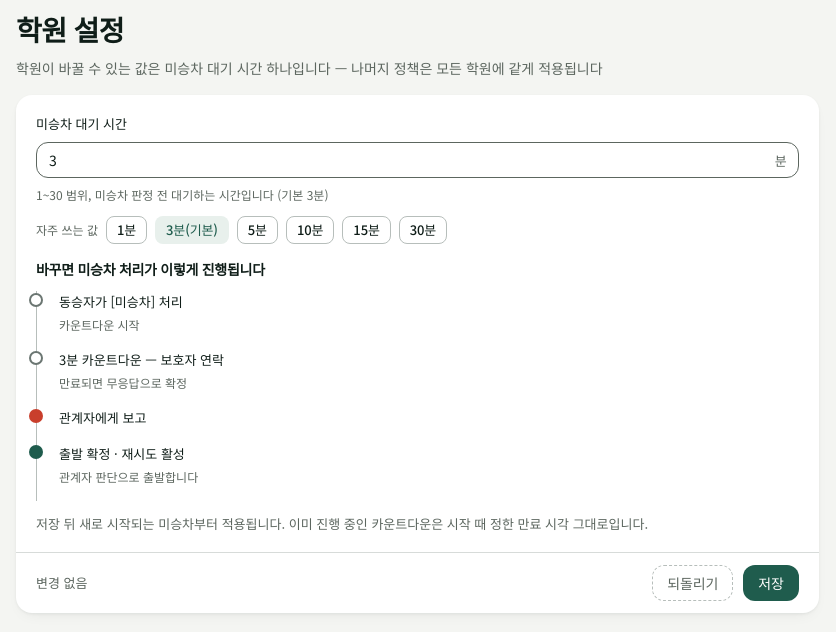
Scenario: AcademySettingsForm — 정책 읽기 전용 · 범위 검사 › 1~30 밖의 값(45)을 넣으면 오류 문구를 보이고 저장 단추가 꺼져 서버를 부르지 않는다
Replace the text in the number field with "45": [417, 160] box [36,142,799,178]
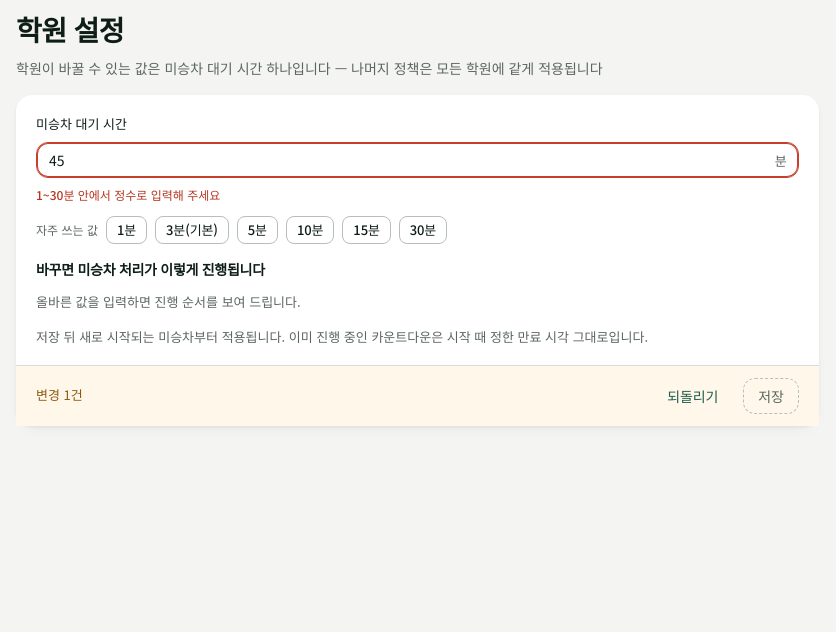
Now the text "1~30분 안에서 정수로 입력해 주세요" is shown, box [36,186,220,203]
Now the button "저장" is disabled, box [743,378,799,414]
